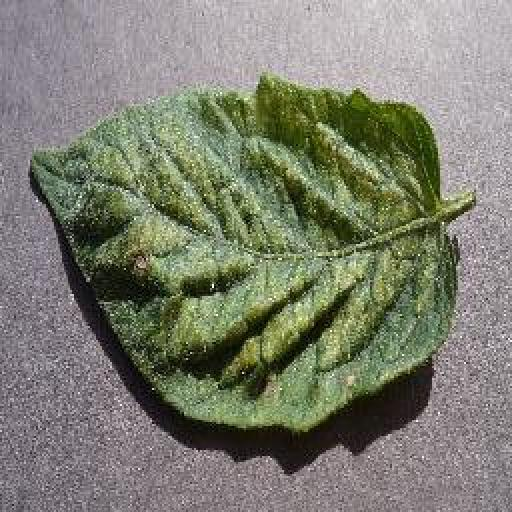disease_tomato: (29, 68, 456, 428)
